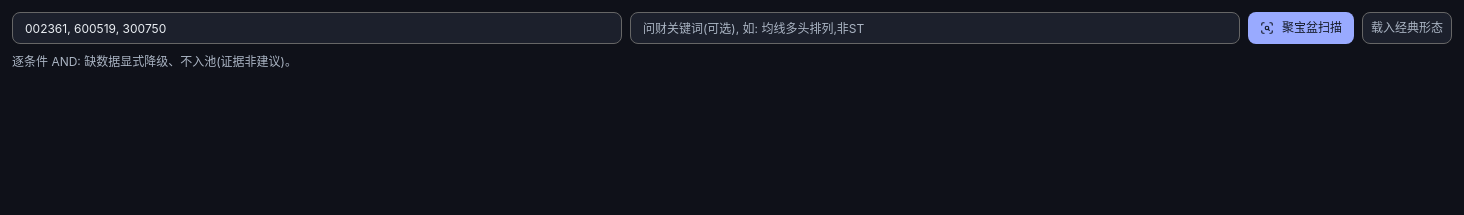
it: JbpPoolTable 聚宝盆选股 › 问财传了关键词但源不可用 → 显式降级横幅
In the field named "聚宝盆问财关键词": coordinates (935, 28) left=630, top=12, right=1240, bottom=44, type "均线多头排列"
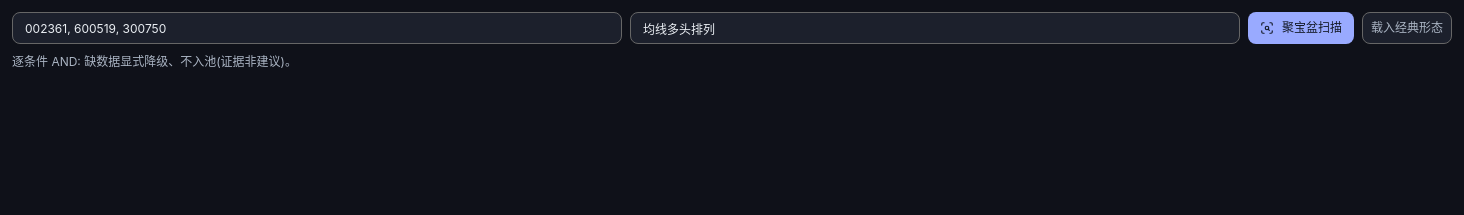
Click the button "聚宝盆扫描": coordinates (1301, 28) left=1248, top=12, right=1354, bottom=44
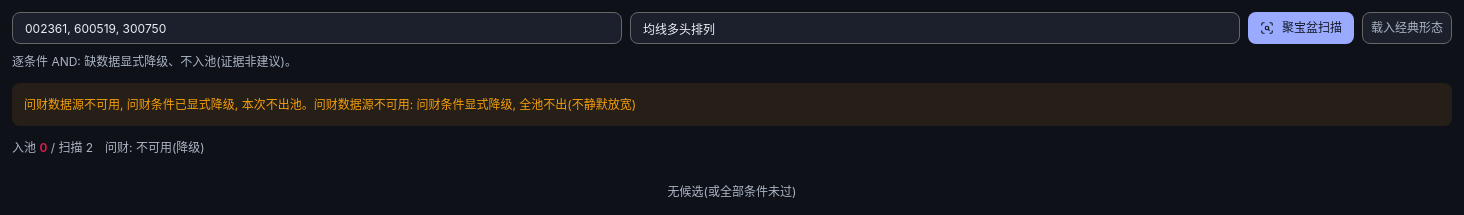
Check: the text "问财数据源不可用, 问财条件已显式降级, 本次不出池。问财数据源不可用: 问财条件显式降级, 全池不出(不静默放宽)" is shown, box left=12, top=83, right=1452, bottom=126
